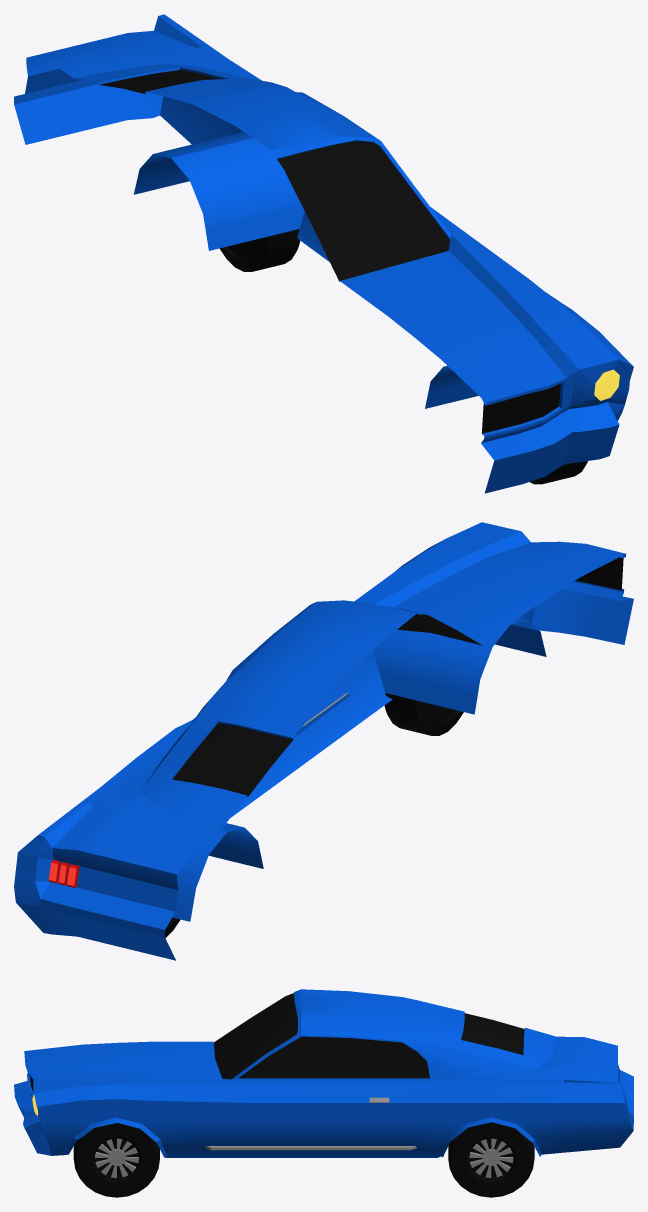
The model's file is mustang.gltf.
The picture shows the model from 3 angles, top to bottom: view 1: azimuth 30°, elevation 25°; view 2: azimuth 150°, elevation 25°; view 3: azimuth 270°, elevation 25°; orthographic projection. The views are drawn at different scales.
Parts seen in each view (by area): view 1: Circle, Circle.002; view 2: Circle, Circle.001, Circle.003; view 3: Circle, Circle.002, Circle.001.
Part boxes in pixels (x1=…): Circle: x1=14, y1=14, x2=633, y2=493; Circle.002: x1=219, y1=229, x2=300, y2=271; Circle: x1=14, y1=522, x2=633, y2=960; Circle.001: x1=384, y1=693, x2=463, y2=735; Circle.003: x1=48, y1=860, x2=79, y2=887; Circle: x1=14, y1=989, x2=633, y2=1157; Circle.002: x1=448, y1=1122, x2=534, y2=1197; Circle.001: x1=73, y1=1123, x2=159, y2=1197.
Bounding box in the file's own units: 0.6592 × 0.9783 × 3.37.
